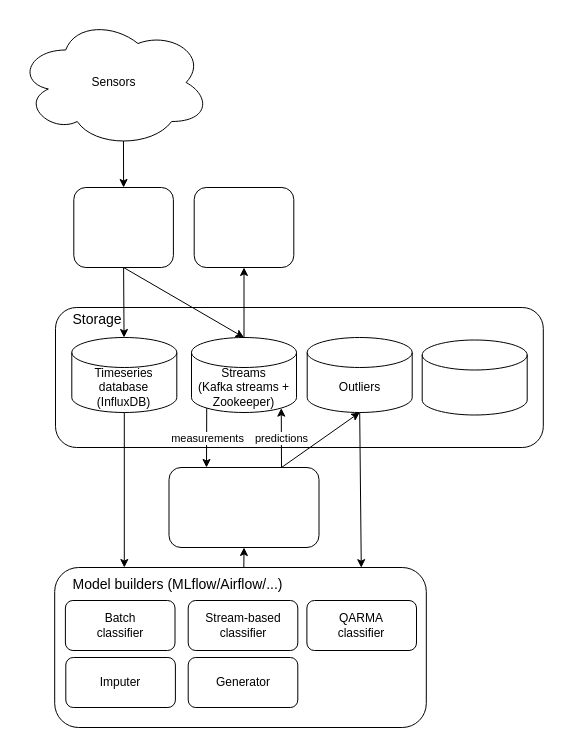
Some shapes in this 561 by 745 pixel diagram are drawn without their labels. Each missing label, with the centre of its shape:
"Analytics (Dashboard)" goes at (243,227).
"Collector" goes at (123,227).
"models" goes at (243,507).
"Syslog" goes at (474,377).
